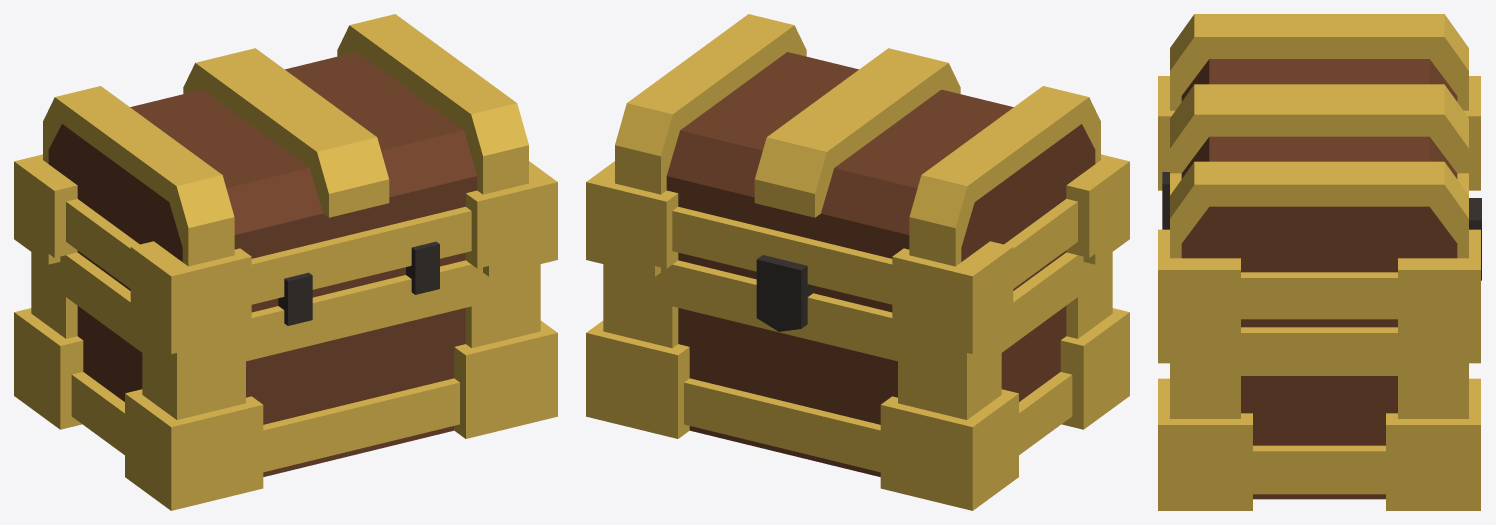
Rendered from Treasure 1.fbx.
3 renders of one model, left to right at view 1: azimuth 30°, elevation 25°; view 2: azimuth 150°, elevation 25°; view 3: azimuth 270°, elevation 25°, orthographic. The views are drawn at different scales.
Visible parts, largest first — view 1: Cube, Cube.003, Cube.002, Cube.001, Cube.004, Cube.006, Cube.007; view 2: Cube, Cube.003, Cube.002, Cube.001, Cube.004, Cube.005; view 3: Cube.003, Cube, Cube.002, Cube.004, Cube.001, Cube.005, Cube.006.
Boxes of the visible parts, x1=… form: Cube: x1=14, y1=252, x2=557, y2=510; Cube.003: x1=14, y1=14, x2=557, y2=354; Cube.002: x1=48, y1=52, x2=477, y2=312; Cube.001: x1=77, y1=306, x2=465, y2=476; Cube.004: x1=183, y1=48, x2=389, y2=217; Cube.006: x1=278, y1=272, x2=312, y2=325; Cube.007: x1=406, y1=241, x2=439, y2=294; Cube: x1=586, y1=252, x2=1129, y2=510; Cube.003: x1=586, y1=14, x2=1129, y2=354; Cube.002: x1=666, y1=52, x2=1095, y2=312; Cube.001: x1=678, y1=306, x2=1066, y2=476; Cube.004: x1=754, y1=48, x2=960, y2=217; Cube.005: x1=756, y1=255, x2=813, y2=331; Cube.003: x1=1158, y1=14, x2=1480, y2=349; Cube: x1=1158, y1=327, x2=1480, y2=510; Cube.002: x1=1181, y1=59, x2=1457, y2=327; Cube.004: x1=1170, y1=84, x2=1468, y2=173; Cube.001: x1=1241, y1=376, x2=1397, y2=499; Cube.005: x1=1469, y1=198, x2=1481, y2=280; Cube.006: x1=1162, y1=172, x2=1169, y2=229.
Size of the model in its own units: 24.15 by 18.27 by 17.05.
3 materials, 3 textured.
